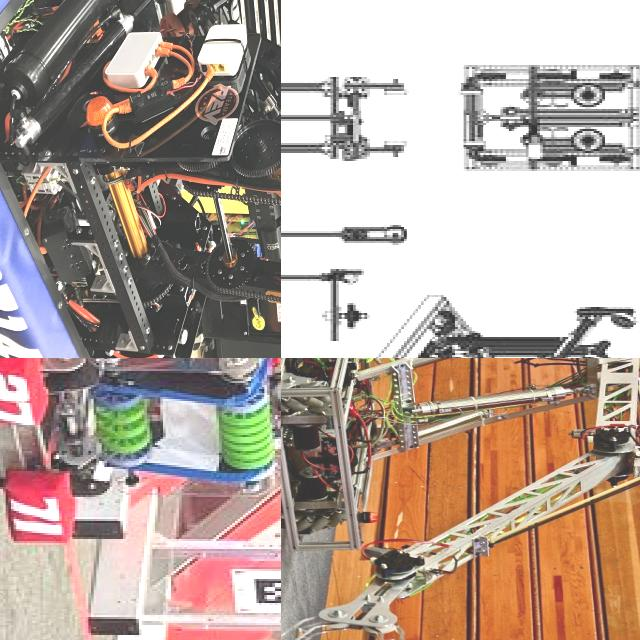FRC-Robots: (281, 358, 640, 640), (0, 0, 281, 358), (0, 358, 281, 640), (345, 286, 640, 358)
